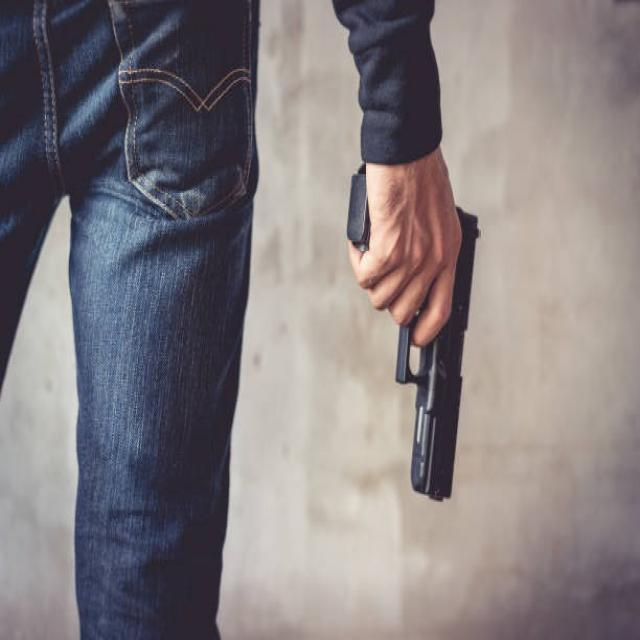pistol: (338, 150, 492, 516)
